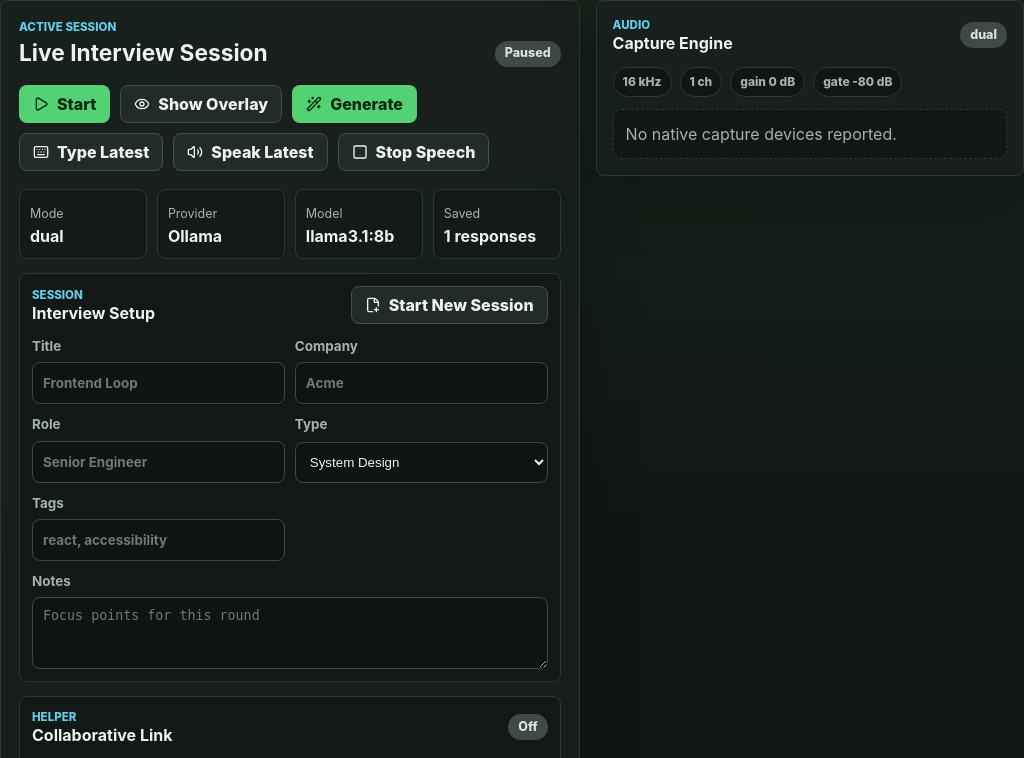
Test: Dashboard collaboration helper › does not show the overlay when manual show finds an active screen share
Expected: the heading "Live Interview Session" is shown, [19,39,268,66]
What coordinates should you click on to do the following:
click the button "Show Overlay"
I would click on:
 (201, 104)
Its box is [120,85,282,123].
(page scrolled)
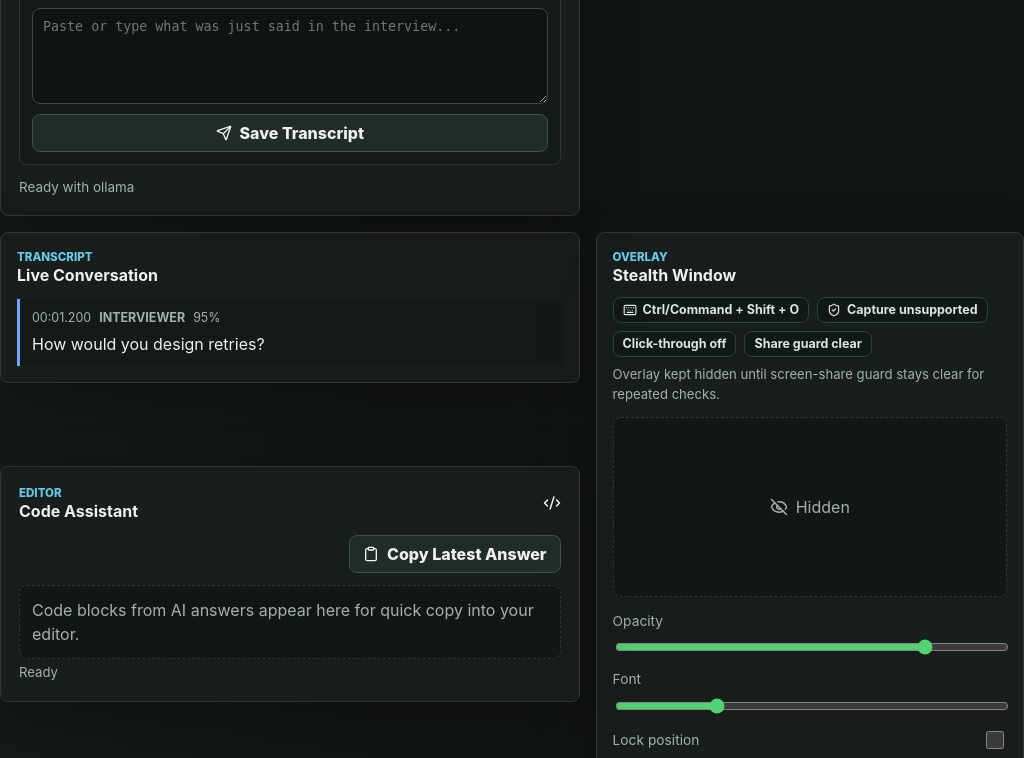
Result: the text "Overlay hidden because screen sharing process is running: Google Meet." is shown at [613,365,1007,405]
